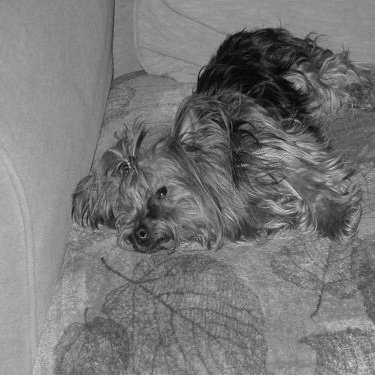dog: (65, 17, 371, 254)
